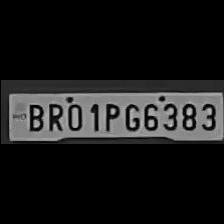0: (62, 99, 84, 131)
1: (84, 100, 100, 132)
3: (158, 99, 178, 131), (198, 99, 218, 131)
6: (140, 99, 158, 131)
8: (178, 99, 198, 131)
B: (23, 102, 44, 132)
G: (120, 100, 140, 132)
P: (99, 100, 119, 132)
R: (43, 100, 62, 132)
